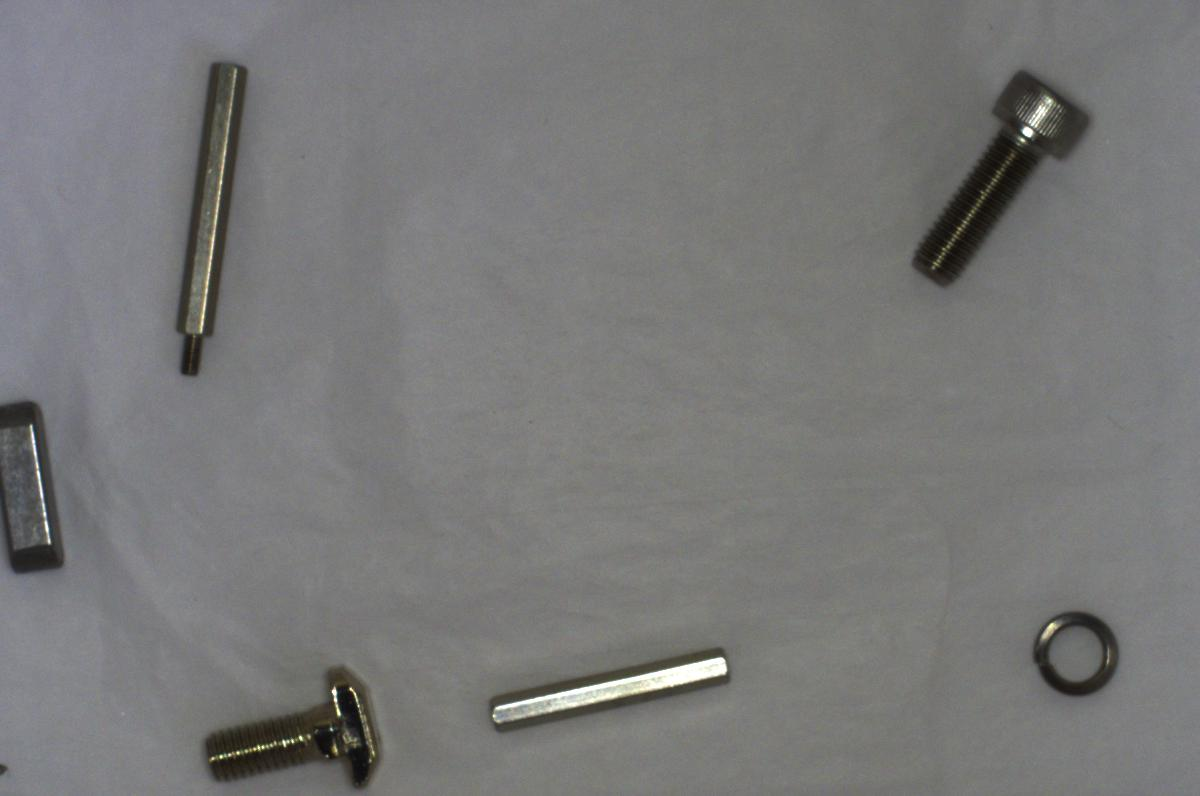Double hexagonal column: (470, 645, 733, 732)
Hexagon screw: (901, 62, 1092, 285)
Hexagonal steel column: (159, 48, 246, 385)
Keybar: (6, 378, 68, 587)
Spring washer: (1019, 603, 1132, 707)
T-shaped screw: (182, 659, 393, 794)
